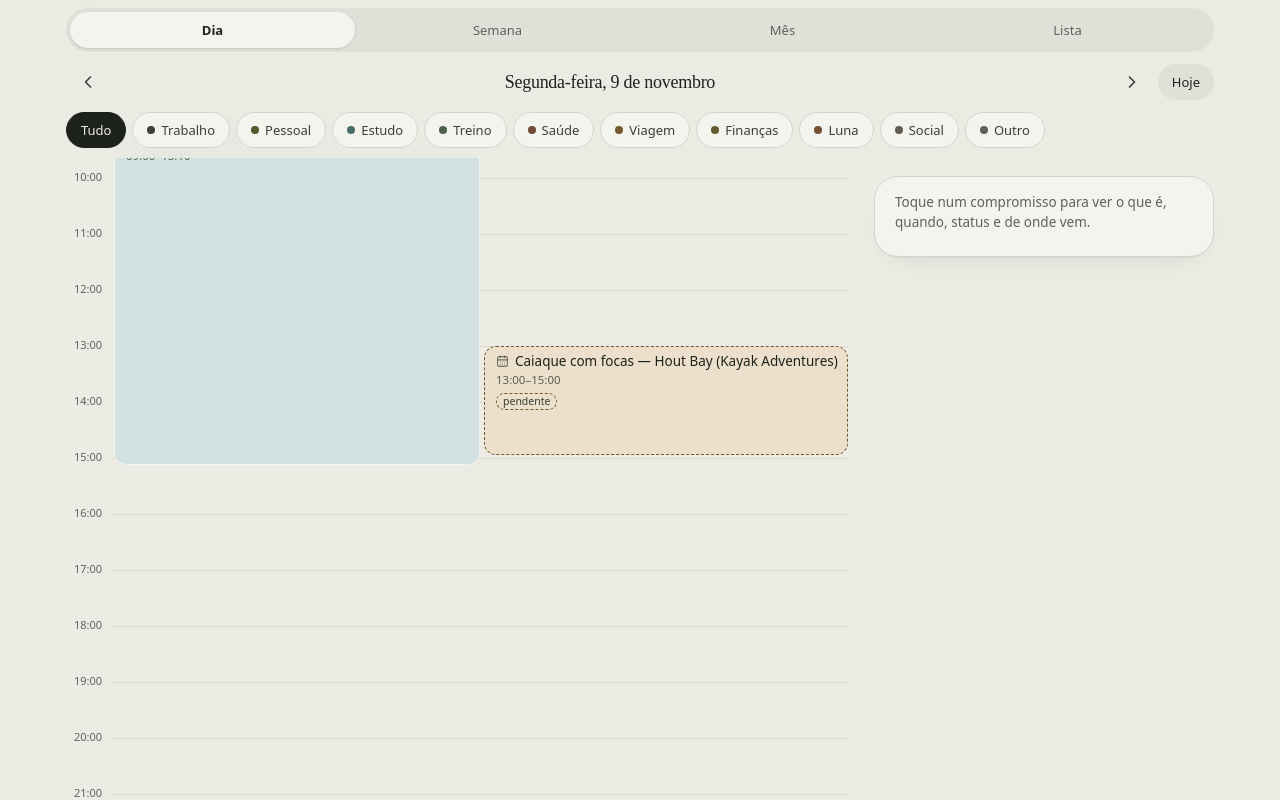
Test: Agenda · calendário universal › Dia 09/11: aula e caiaque no mesmo lugar; o detalhe abre sem formulário
(page scrolled)
Expected: the element named "Dia 2026-11-09" shows "Aula · Bayswater Cape Town", [114,122,480,465]
Click the button with aria-label "Caiaque com focas — Hout Bay (Kayak Adventures), 13:00–15:00".
click(676, 361)  # box [484,346,848,456]
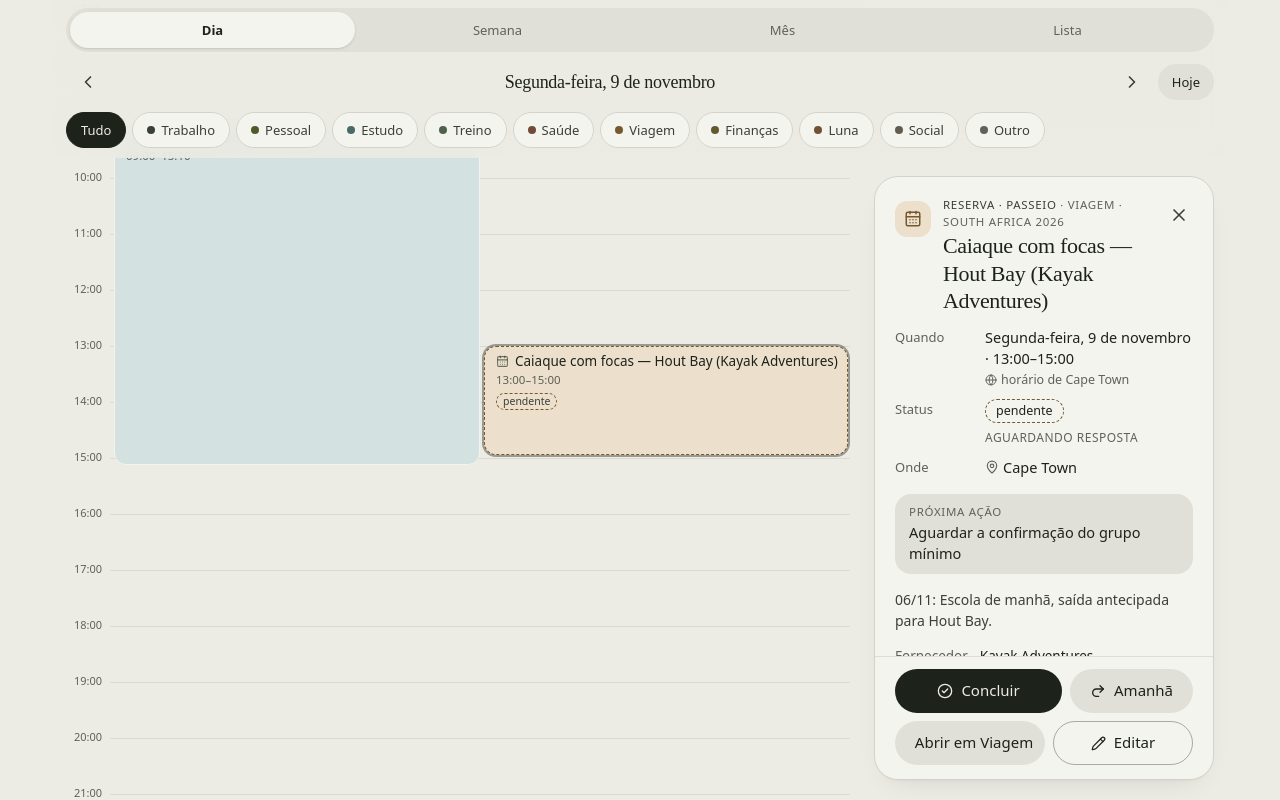
Result: the element named "Detalhe: Caiaque" shows "Aguardar a confirmação do grupo mínimo" at [909,522,1140,563]
Result: the element named "Detalhe: Caiaque" shows "Editar" at [1053,721,1193,765]
